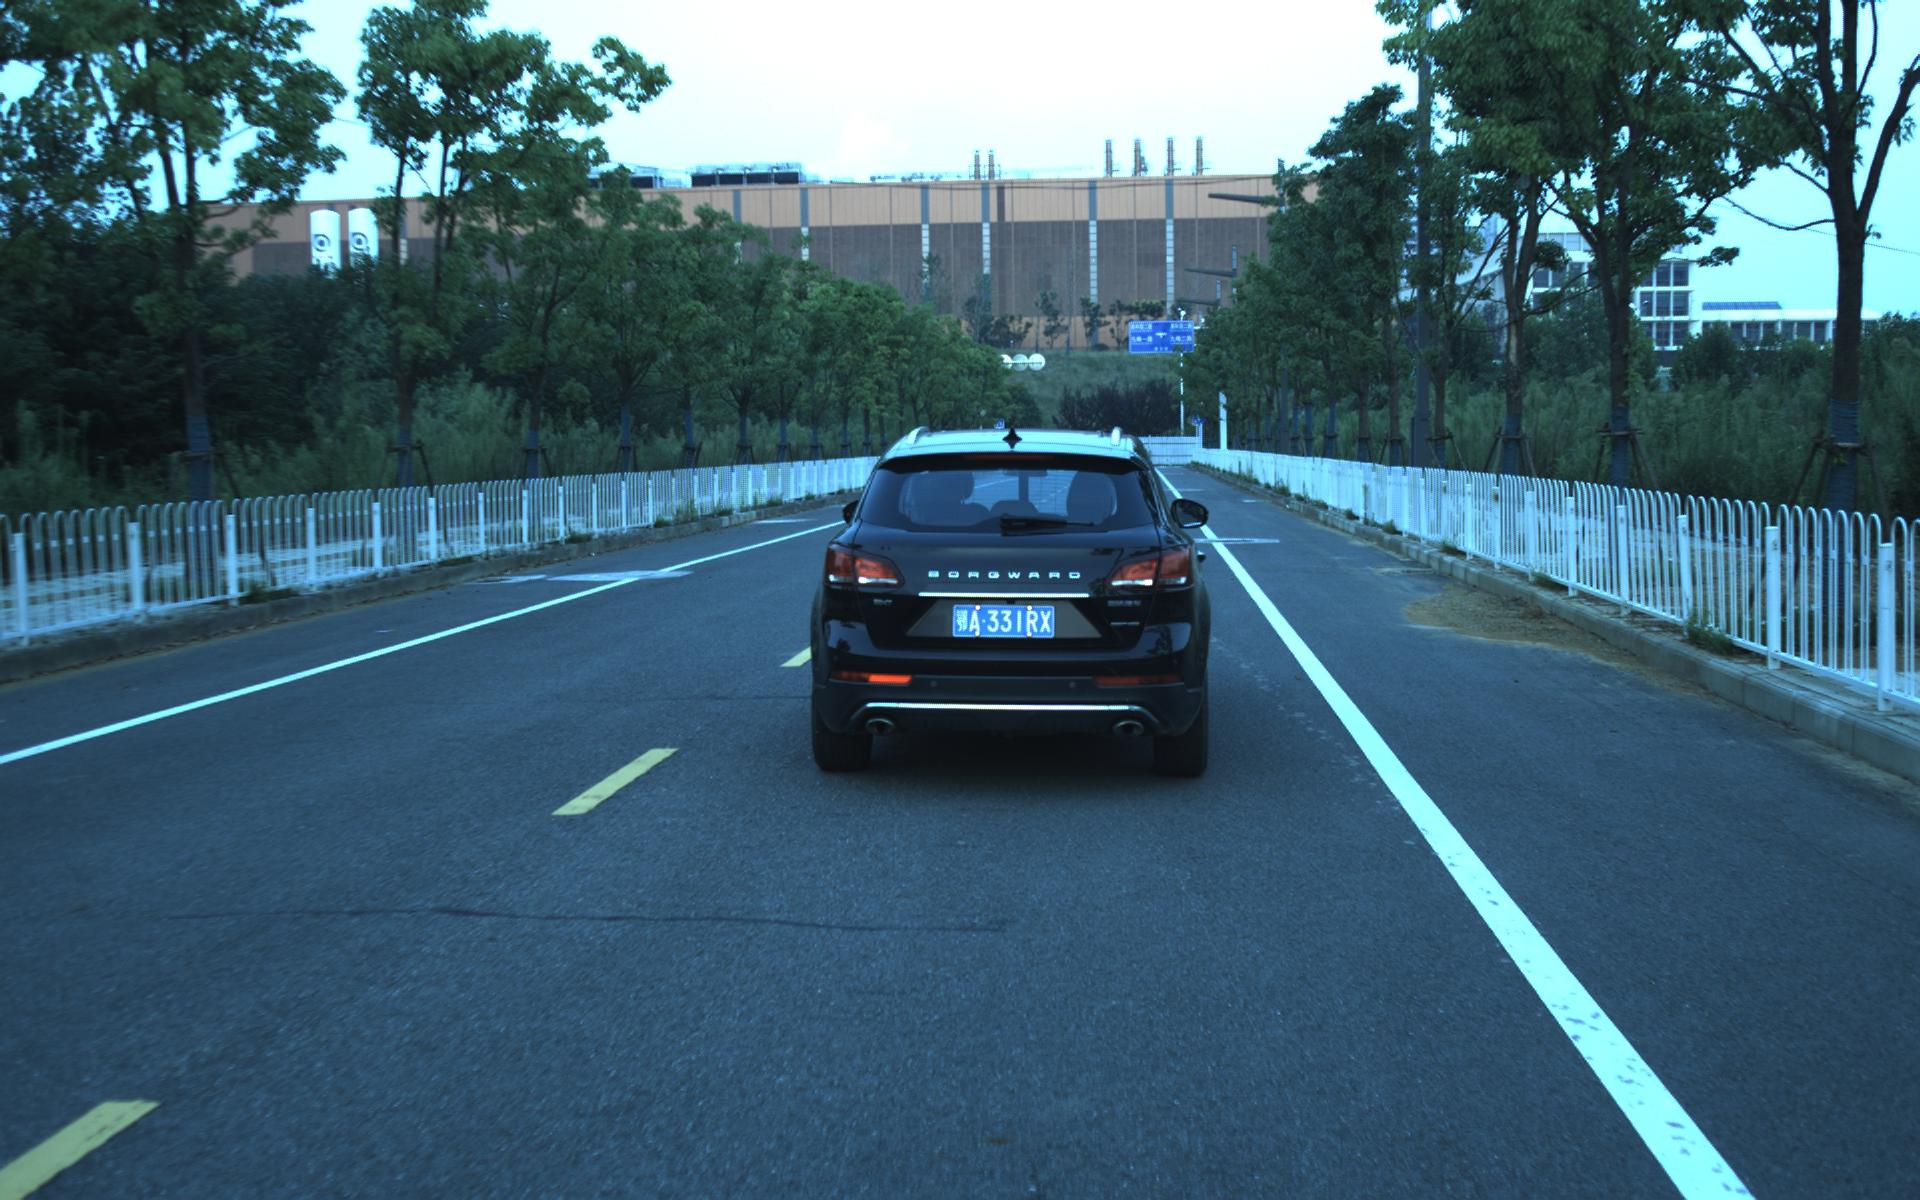Car: (800, 418, 1210, 782)
